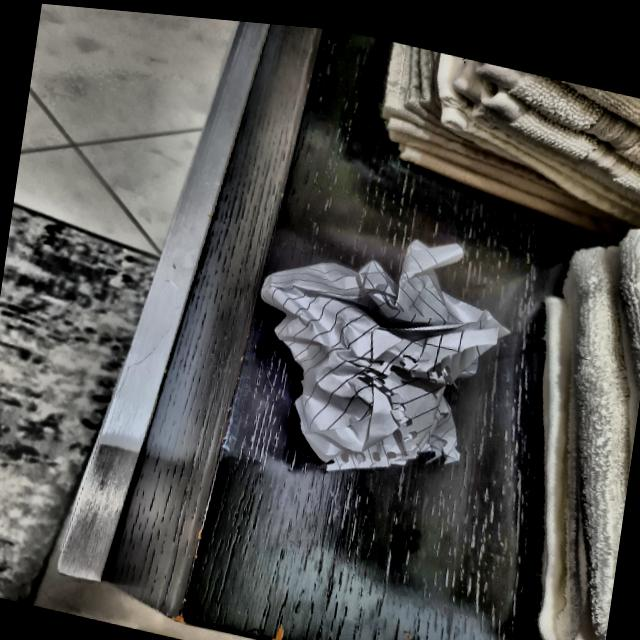Paper: (249, 200, 515, 483)
